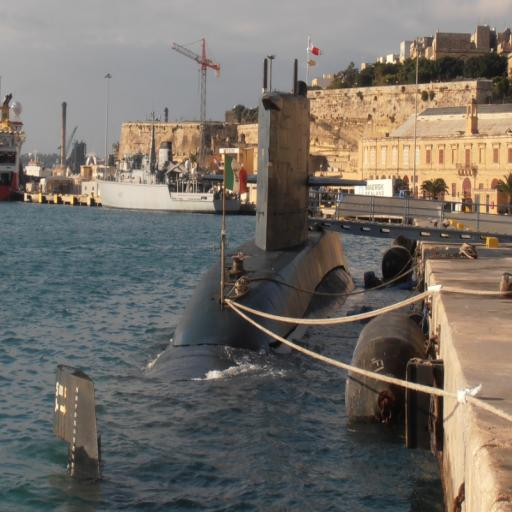submarine: (52, 58, 354, 485)
